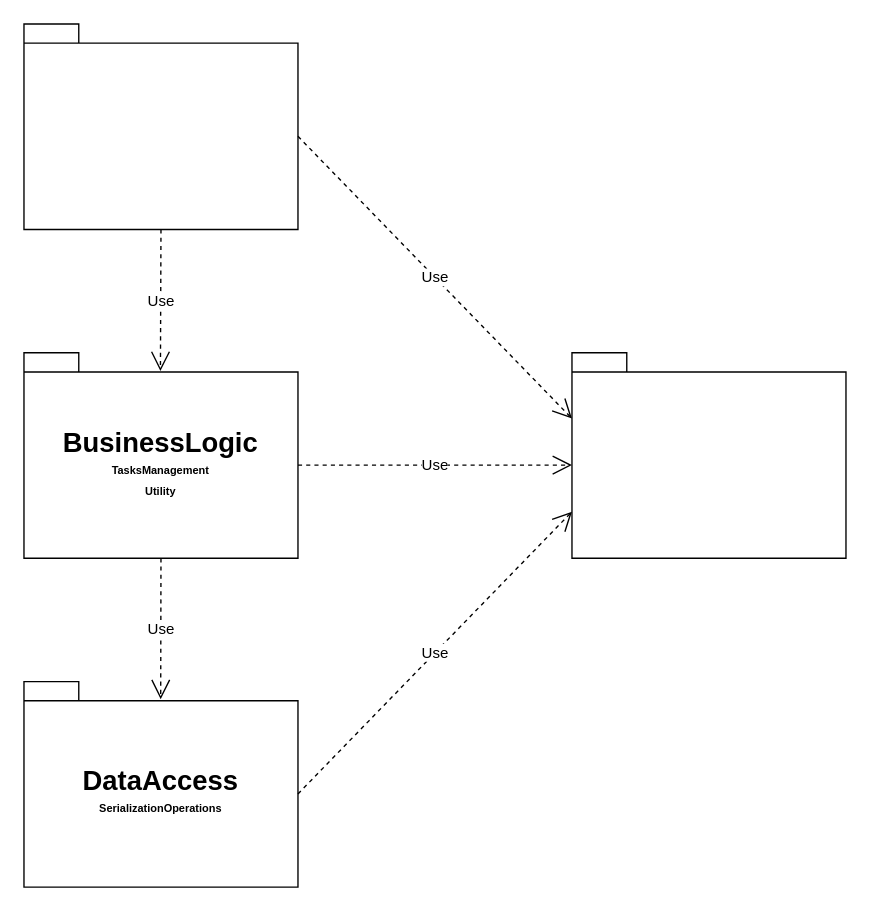
The diagram is 870 pixels wide and 911 high, and some of its shapes have lost their labels. Each missing label, with the box of its shape:
Model SimpleTask ComplexTask Task Employee: (571, 351, 846, 558)
Presentation TaskManagementGUI: (23, 23, 298, 229)
